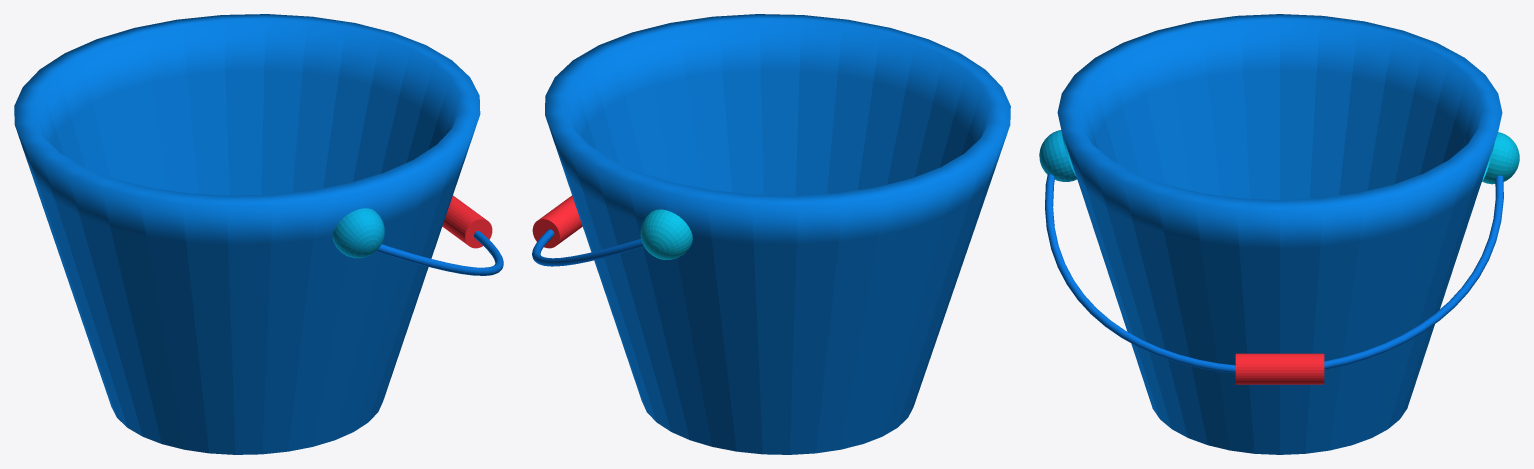
Rendered from bucket2.fbx.
3 renders of one model, left to right at view 1: azimuth 30°, elevation 25°; view 2: azimuth 150°, elevation 25°; view 3: azimuth 270°, elevation 25°, orthographic.
Parts seen in each view (by area): view 1: 円柱.010, 球, NURBSカーブ, 円柱.011; view 2: 円柱.010, 球.001, 円柱.011, NURBSカーブ; view 3: 円柱.010, NURBSカーブ, 円柱.011, 球, 球.001.
Boxes of the visible parts, x1,y1,x2,y2 form: 円柱.010: (14,14,480,454); 球: (332,208,384,258); NURBSカーブ: (376,231,503,275); 円柱.011: (442,195,492,248); 円柱.010: (545,14,1010,454); 球.001: (640,209,692,259); 円柱.011: (532,195,582,248); NURBSカーブ: (532,229,643,266); 円柱.010: (1057,14,1502,454); NURBSカーブ: (1045,173,1503,373); 円柱.011: (1235,353,1324,384); 球: (1039,130,1077,181); 球.001: (1482,132,1519,184).
Bounding box in the file's own units: 219 × 142 × 216.
